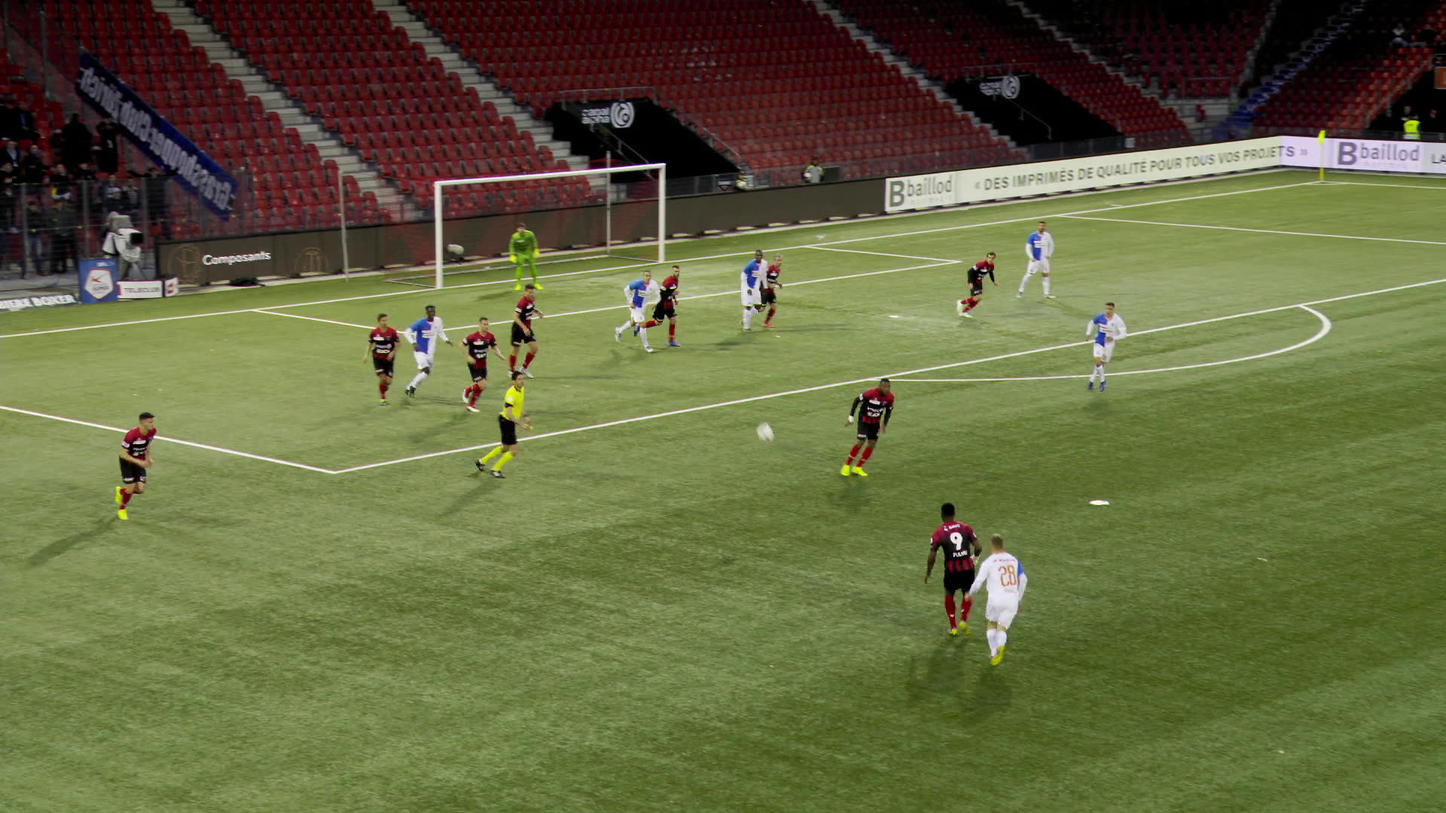ball: (752, 412, 770, 432)
player: (962, 540, 1035, 672), (921, 507, 981, 641), (833, 377, 897, 476), (106, 409, 160, 517), (405, 301, 453, 397), (456, 314, 501, 413), (1084, 302, 1130, 394), (503, 286, 546, 379), (946, 251, 1001, 319), (364, 309, 402, 406), (620, 273, 662, 352), (1020, 221, 1060, 300), (646, 267, 684, 346), (737, 251, 772, 334), (752, 254, 787, 327), (514, 224, 547, 291)
referee: (479, 368, 545, 480)
